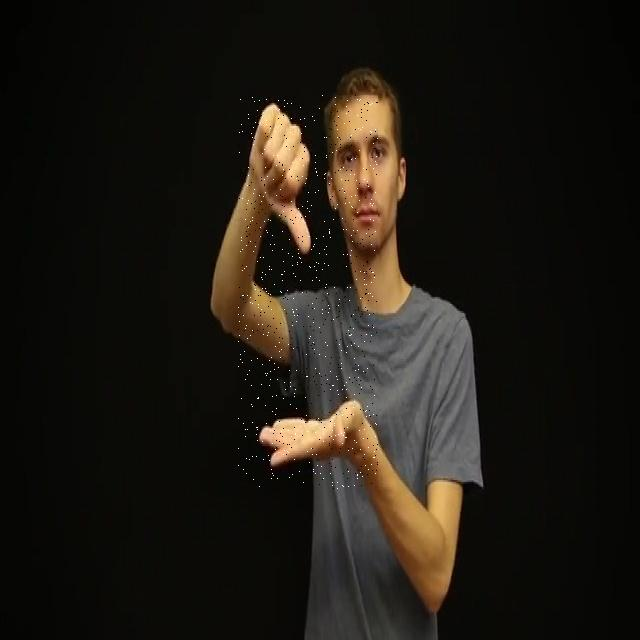sauce: (238, 96, 378, 490)
